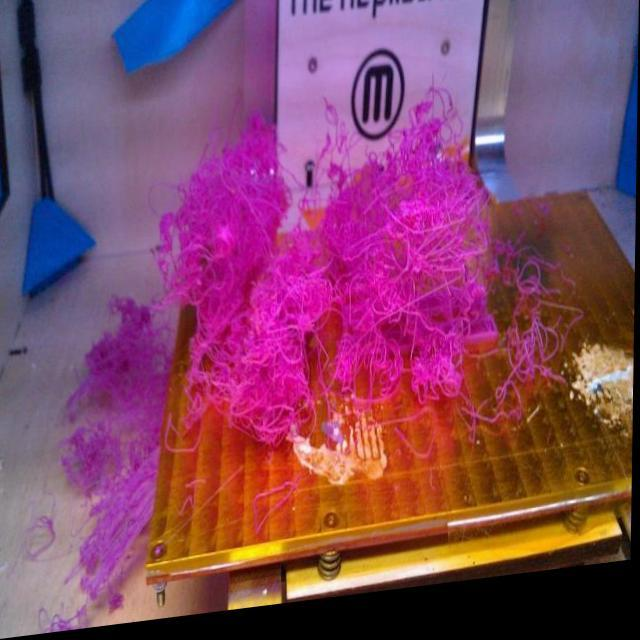spaghetti: (329, 112, 508, 442), (162, 132, 324, 456), (62, 293, 182, 600)
